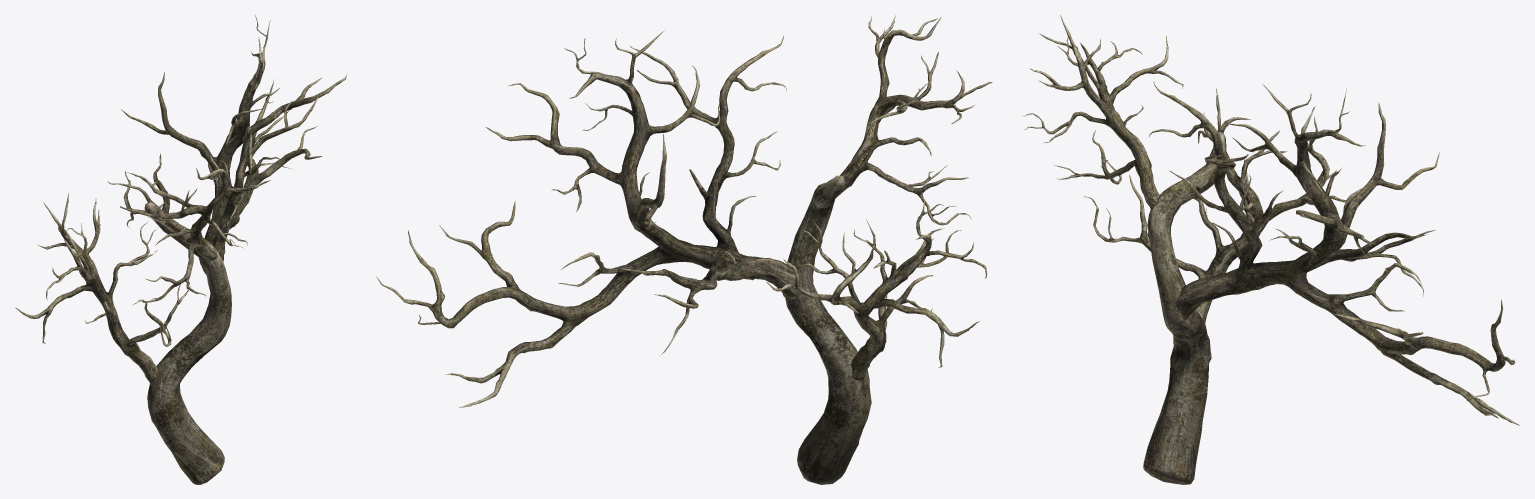
The model's file is DryTreeT3_branches_1_SM.fbx.
3 views of the same model, side by side, from view 1: azimuth 30°, elevation 25°; view 2: azimuth 150°, elevation 25°; view 3: azimuth 270°, elevation 25° (orthographic). The views are drawn at different scales.
Parts seen in each view (by area): view 1: DryTreeT3_branches_1_SM; view 2: DryTreeT3_branches_1_SM; view 3: DryTreeT3_branches_1_SM.
Part boxes in pixels (x1,y1,x2,y2): DryTreeT3_branches_1_SM: (15, 15, 346, 484); DryTreeT3_branches_1_SM: (376, 15, 992, 484); DryTreeT3_branches_1_SM: (1022, 15, 1519, 484).
Size of the model in its own units: 1473 by 1404 by 1343.
